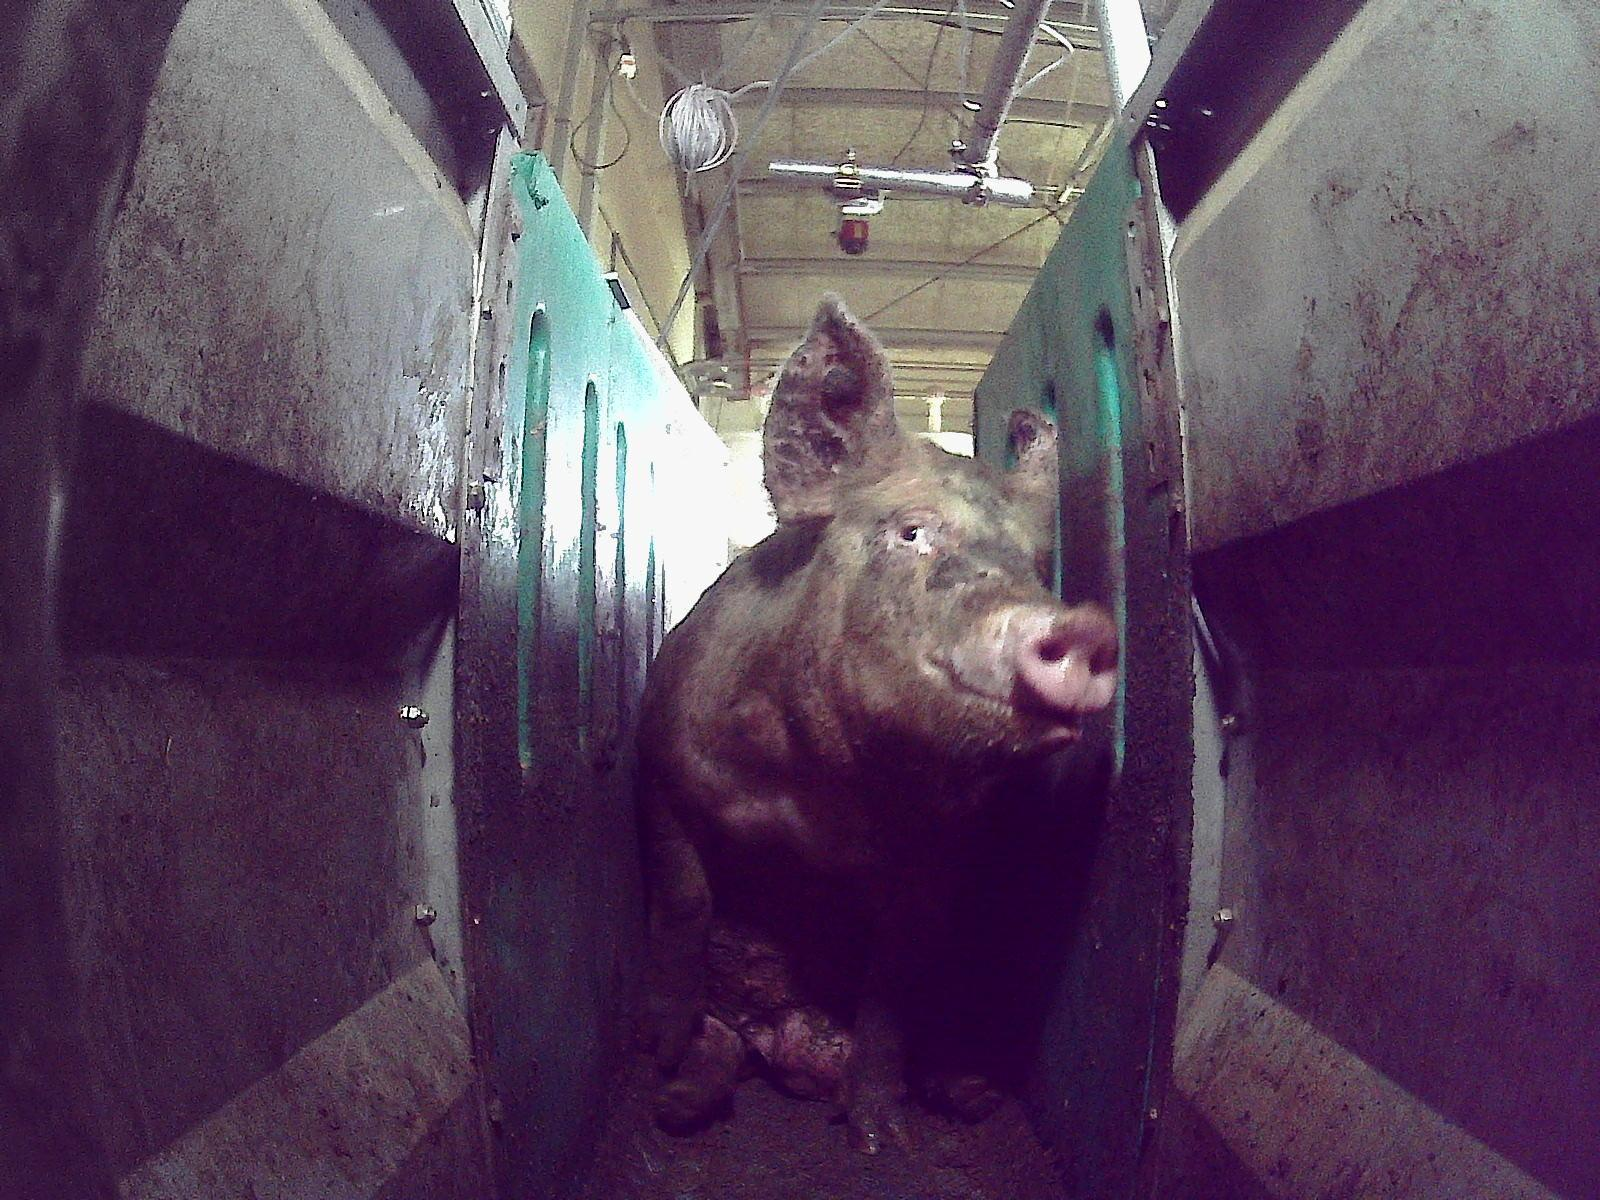Face: (750, 443, 1117, 785)
